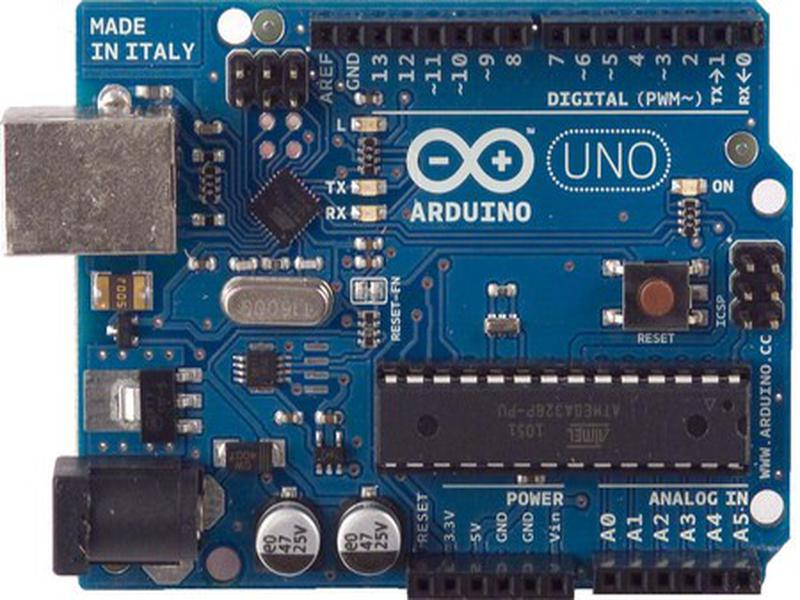Arduino UNO: (5, 1, 792, 597)
